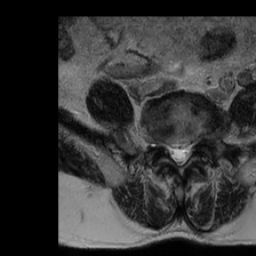CCS_normal: (176, 138, 184, 173)
LFS_stenosis: (193, 129, 202, 152)
LLS_normal: (184, 138, 193, 165)
RFS_stenosis: (160, 133, 169, 154)
RLS_normal: (169, 137, 176, 166)
